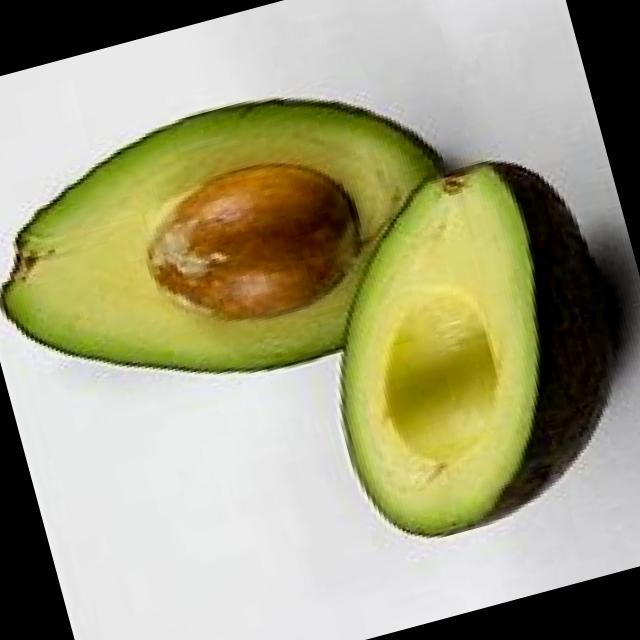avocado: (0, 58, 476, 434), (278, 131, 640, 568)
